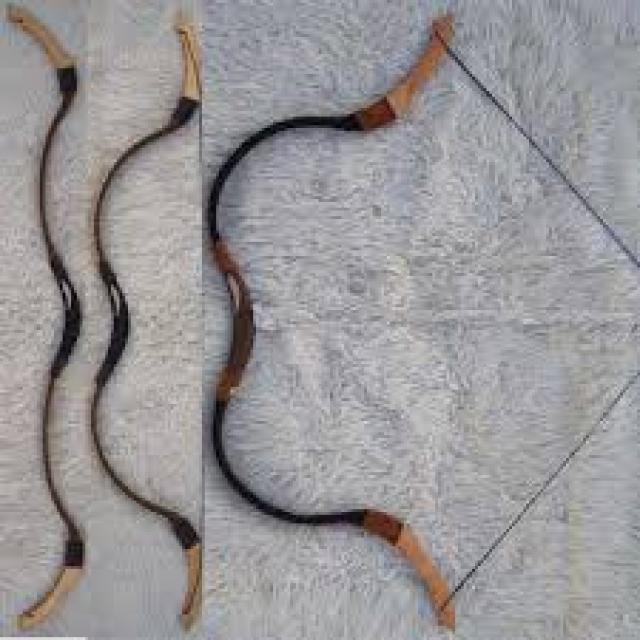X-Bow: (203, 5, 639, 640)
